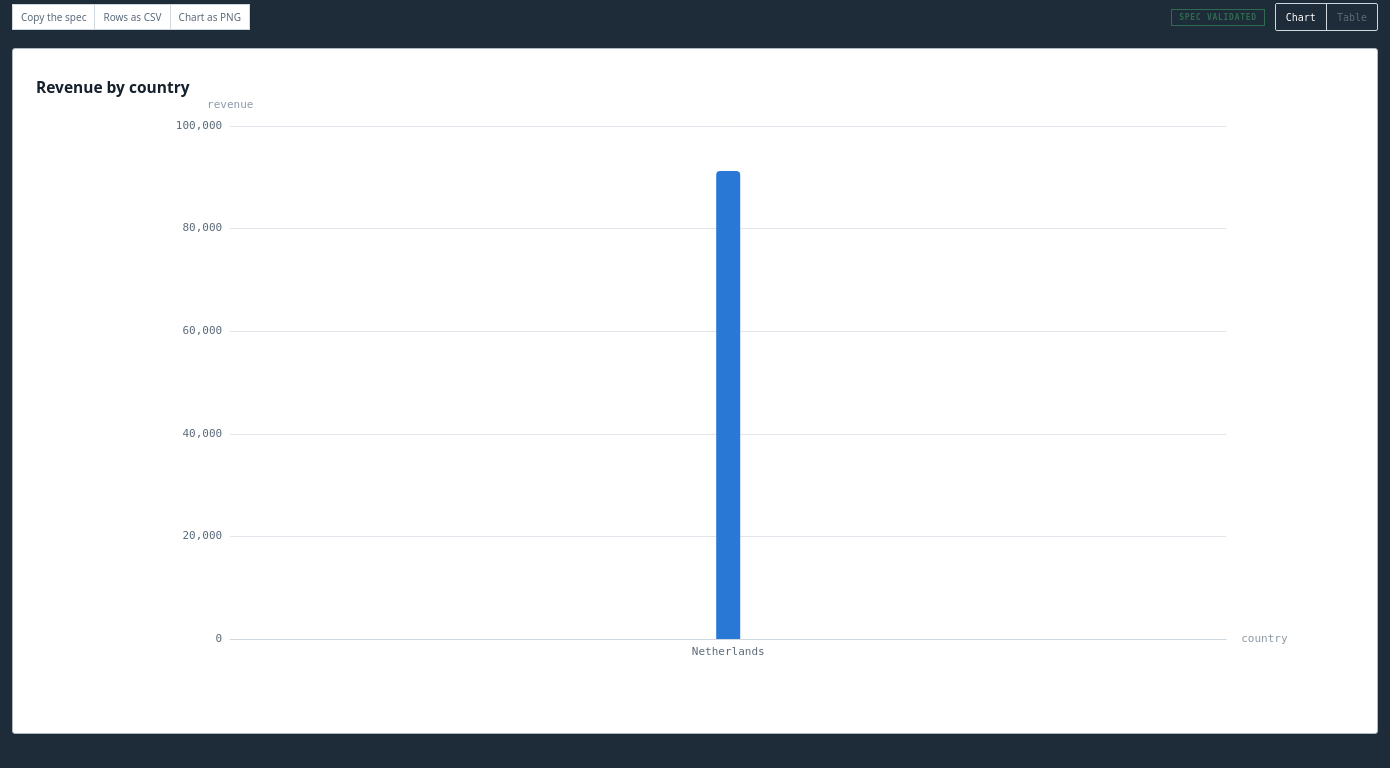
clicking a mark › shows the table of what the chart was drawn from, which is what makes the colours legal
Click the button "Table" at (1351, 17), box [1326,4,1377,30]
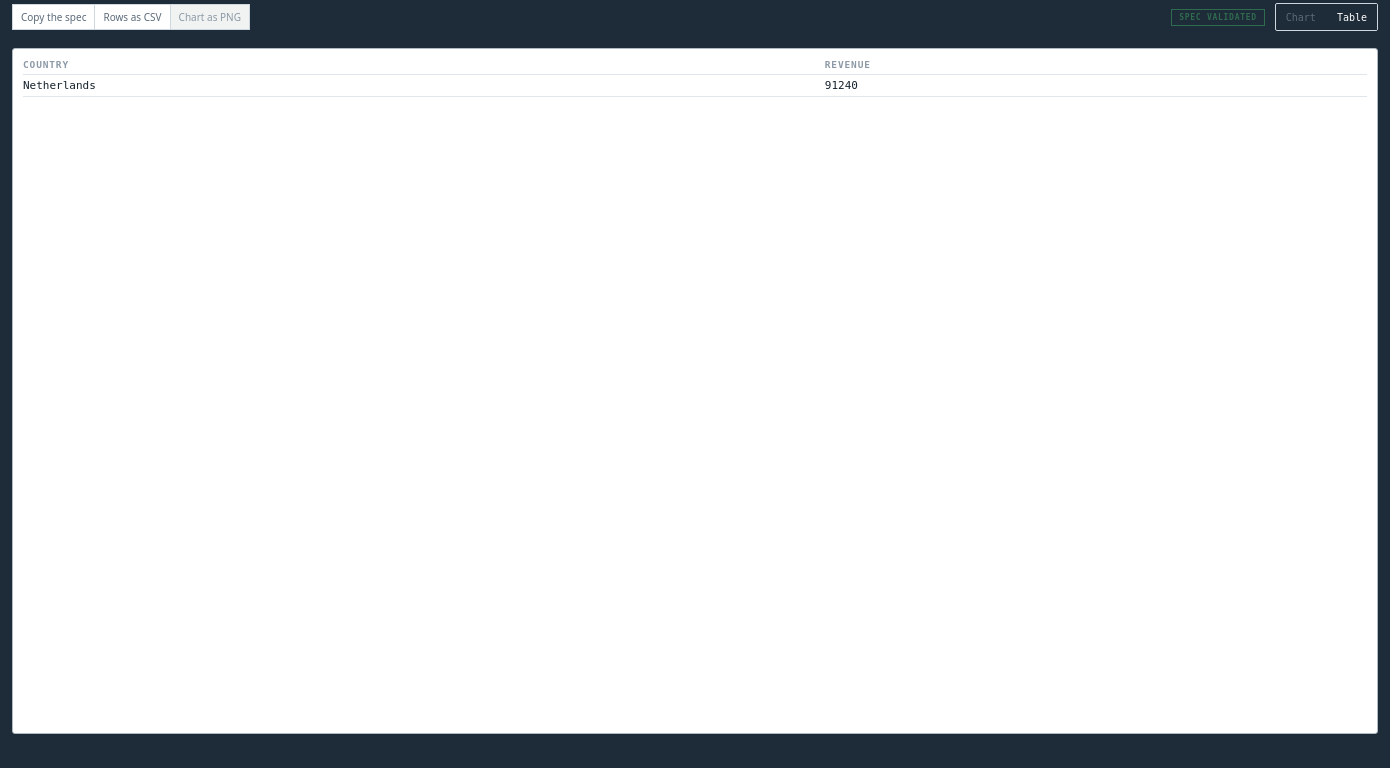
Result: the text "Netherlands" is shown at [23,74,825,96]
